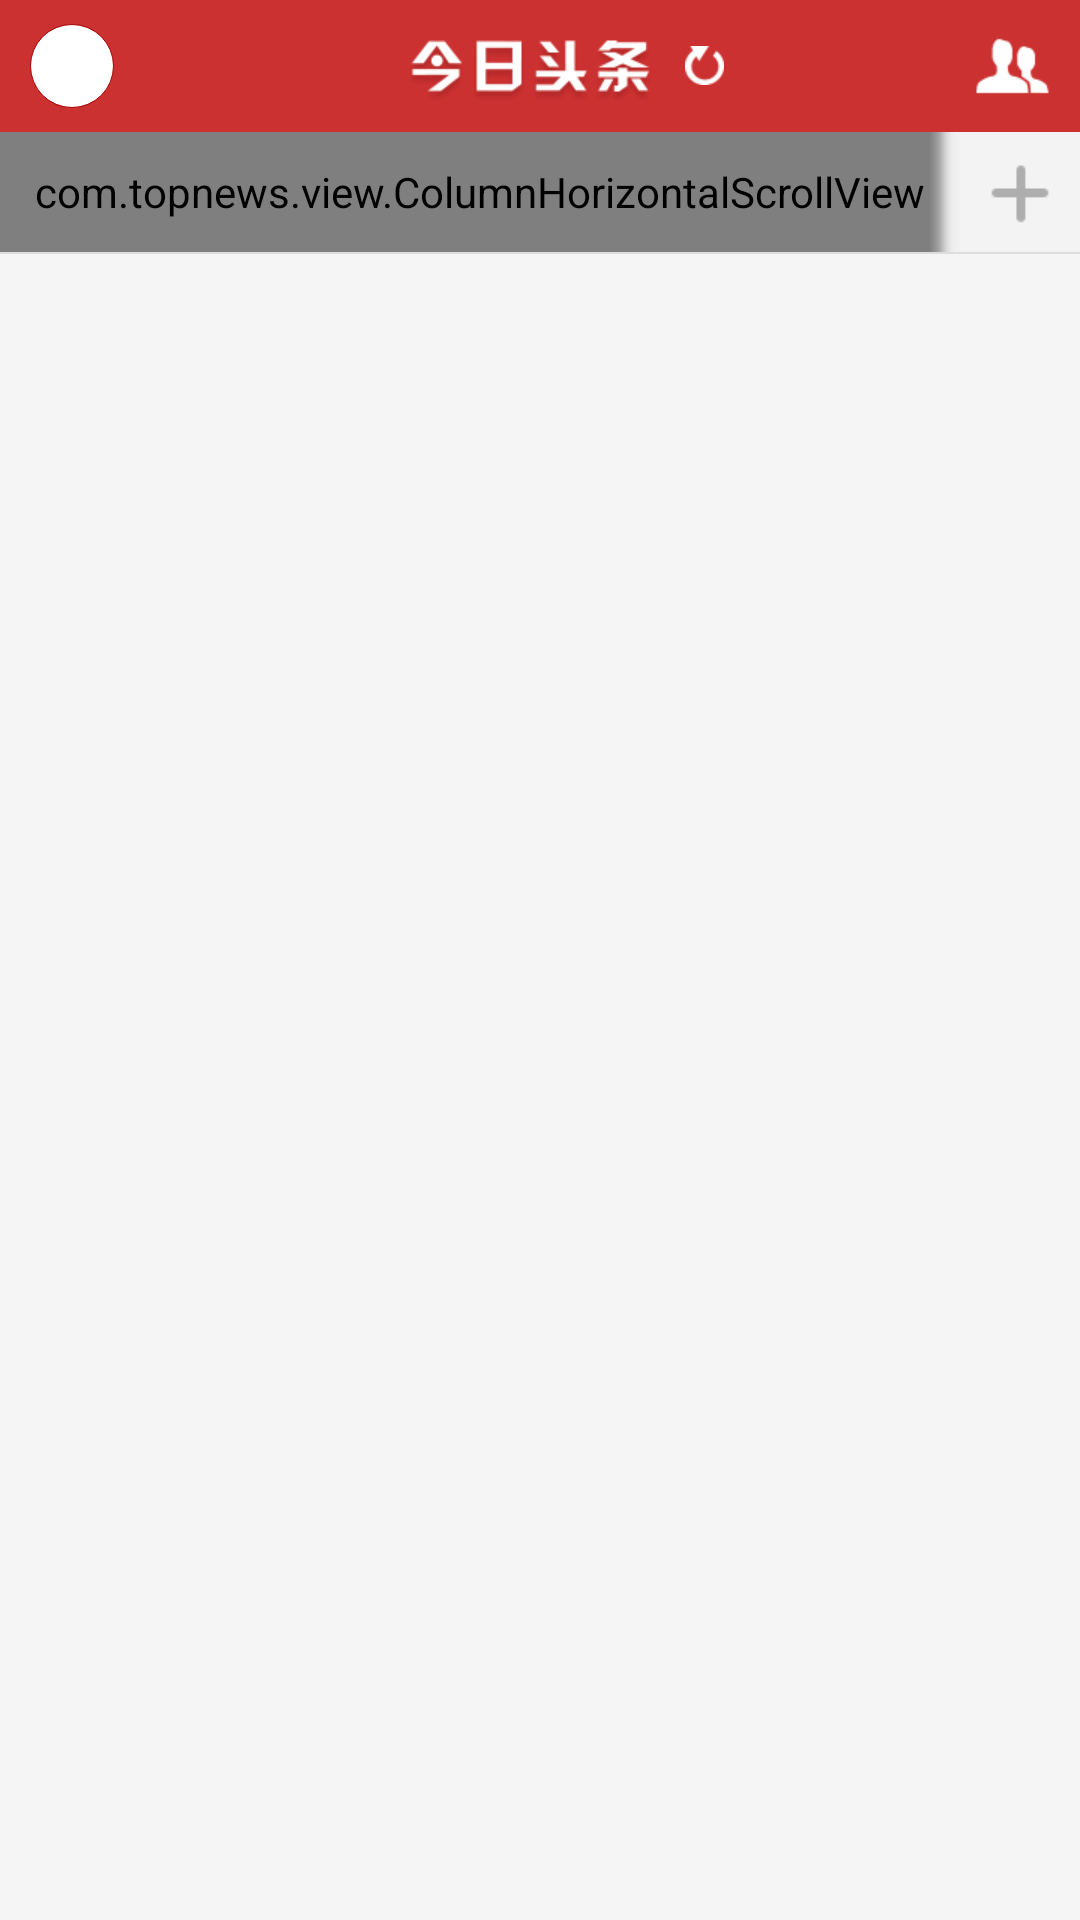

Where icons sit on this 1080px x 1920px app screen, as Rect(x1, y1, x2, y2):
refreshicon titlebar: Rect(685, 46, 724, 85)
